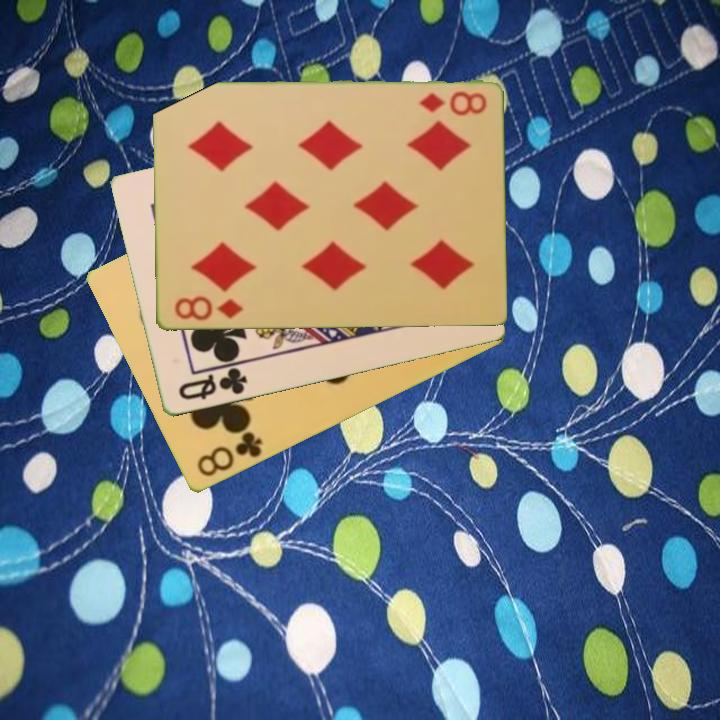8c: (193, 428, 265, 480)
8d: (171, 293, 246, 324), (415, 88, 489, 117)
Qc: (174, 364, 250, 404)
